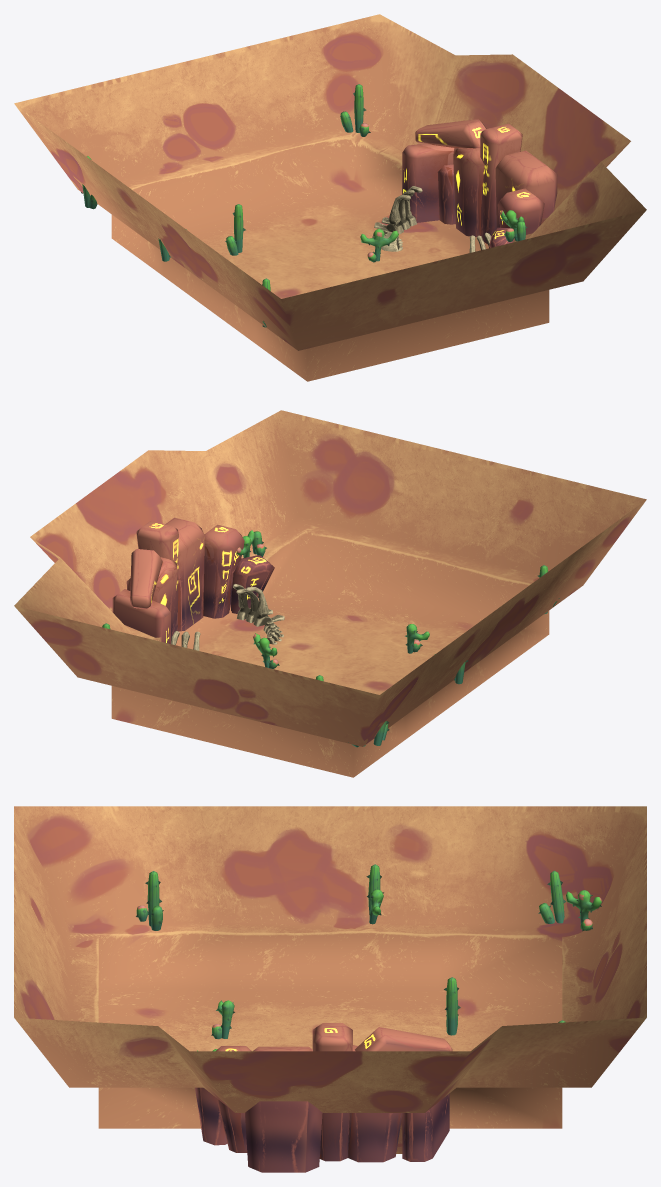
File: tarrainNFz.fbx
3 renders of one model, top to bottom at view 1: azimuth 30°, elevation 25°; view 2: azimuth 150°, elevation 25°; view 3: azimuth 270°, elevation 25°, orthographic. The views are drawn at different scales.
Visible parts, largest first — view 1: terrain1, pCube21, pCube17, pCube19, pCube18, pCube22, polySurface3535, pCube16, pCube20; view 2: terrain1, pCube16, pCube17, polySurface3535, pCube21, pCube22, pCube18, pCube15, pCube19; view 3: terrain1, pCube17, pCube19, pCube18, pCube21, pCube22, pCube15, pCube16, pCube56, pCube66, pCube68.
Part boxes in pixels (<box>): terrain1: <box>14,14,646,381</box>; pCube21: <box>402,144,454,222</box>; pCube17: <box>495,150,557,228</box>; pCube19: <box>453,147,484,236</box>; pCube18: <box>480,123,522,244</box>; pCube22: <box>415,119,486,148</box>; polySurface3535: <box>372,186,491,252</box>; pCube16: <box>497,188,544,234</box>; pCube20: <box>437,164,455,224</box>; terrain1: <box>14,410,646,777</box>; pCube16: <box>203,524,244,618</box>; pCube17: <box>165,517,204,631</box>; polySurface3535: <box>171,584,284,650</box>; pCube21: <box>112,589,170,643</box>; pCube22: <box>130,549,162,609</box>; pCube18: <box>136,521,178,635</box>; pCube15: <box>231,555,274,613</box>; pCube19: <box>126,557,177,640</box>; terrain1: <box>14,806,646,1153</box>; pCube17: <box>245,1046,322,1172</box>; pCube19: <box>347,1045,402,1162</box>; pCube18: <box>312,1023,352,1161</box>; pCube21: <box>402,1093,449,1161</box>; pCube22: <box>355,1027,452,1051</box>; pCube15: <box>195,1087,227,1145</box>; pCube16: <box>216,1046,251,1152</box>; pCube56: <box>444,977,460,1035</box>; pCube66: <box>566,890,602,923</box>; pCube68: <box>547,870,565,923</box>.
Bounding box in the file's own units: 98.27 × 28.2 × 107.
